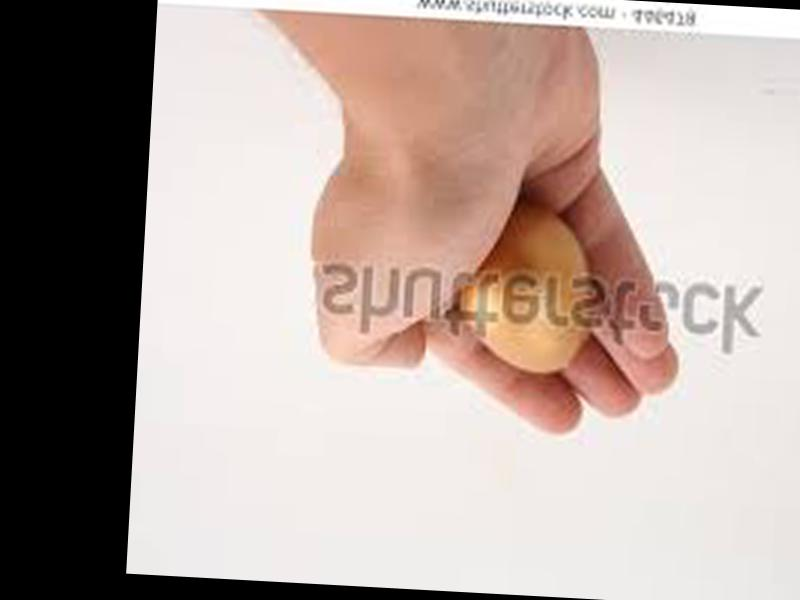Eggs: (460, 205, 594, 374)
